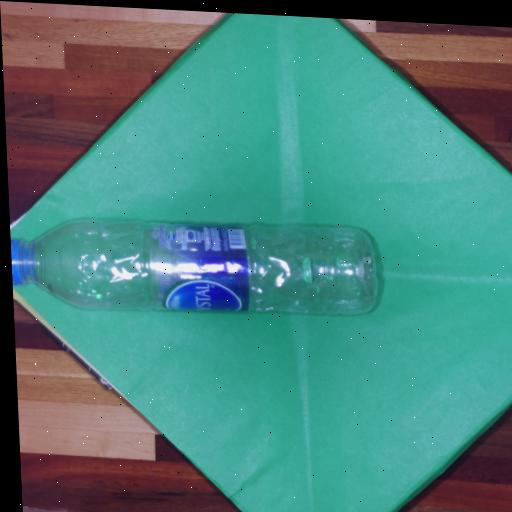bottle: (9, 196, 416, 338)
